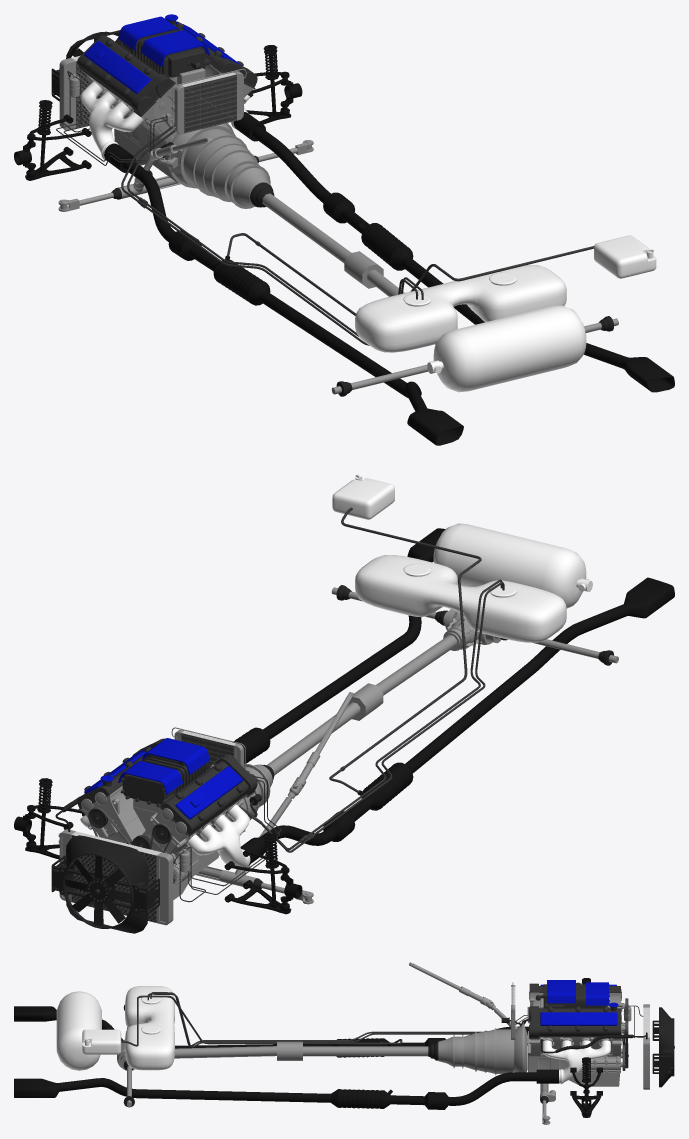
File: Engine.FBX
3 views of the same model, one above another, from view 1: azimuth 30°, elevation 25°; view 2: azimuth 150°, elevation 25°; view 3: azimuth 270°, elevation 25° (orthographic). The views are drawn at different scales.
Parts seen in each view (by area): view 1: Engine, prod1, engineGray, engineRed, Net, engineBody, steBla, Frame, prod3, engineBla, prod14, steGra (+2 smaller); view 2: Engine, prod1, Fan, engineBody, engineRed, steBla, Net, prod3, engineBla, Frame, prod14, steWhi (+2 smaller); view 3: Engine, engineGray, engineBody, steBla, prod1, engineRed, Fan, prod3, engineBla, prod14, Frame, prod11 (+3 smaller).
Part boxes in pixels (bbox=[...]): Engine: bbox=[14, 20, 674, 445]; prod1: bbox=[427, 305, 586, 392]; engineGray: bbox=[158, 123, 271, 208]; engineRed: bbox=[84, 14, 241, 93]; Net: bbox=[72, 55, 236, 133]; engineBody: bbox=[80, 64, 254, 182]; steBla: bbox=[262, 193, 404, 296]; Frame: bbox=[59, 58, 246, 134]; prod3: bbox=[121, 124, 423, 345]; engineBla: bbox=[80, 81, 249, 160]; prod14: bbox=[594, 235, 656, 278]; steGra: bbox=[111, 155, 613, 396]; Engine: bbox=[14, 507, 674, 914]; prod1: bbox=[433, 523, 592, 608]; Fan: bbox=[51, 835, 159, 933]; engineBody: bbox=[79, 764, 253, 899]; engineRed: bbox=[84, 738, 242, 819]; steBla: bbox=[267, 635, 456, 775]; Net: bbox=[71, 731, 236, 922]; prod3: bbox=[239, 579, 504, 852]; engineBla: bbox=[80, 804, 250, 867]; Frame: bbox=[59, 727, 252, 925]; prod14: bbox=[332, 474, 394, 519]; steWhi: bbox=[195, 785, 302, 888]; Engine: bbox=[14, 962, 674, 1124]; engineGray: bbox=[438, 1023, 523, 1075]; engineBody: bbox=[523, 989, 628, 1086]; steBla: bbox=[174, 1041, 428, 1060]; prod1: bbox=[56, 991, 101, 1070]; engineRed: bbox=[540, 980, 618, 1025]; Fan: bbox=[652, 1007, 674, 1087]; prod3: bbox=[147, 992, 528, 1047]; engineBla: bbox=[542, 1040, 610, 1084]; prod14: bbox=[82, 1029, 121, 1054]; Frame: bbox=[511, 982, 649, 1089]; prod11: bbox=[541, 1032, 647, 1053].
Bounding box in the file's own units: 161 × 69.99 × 438.
